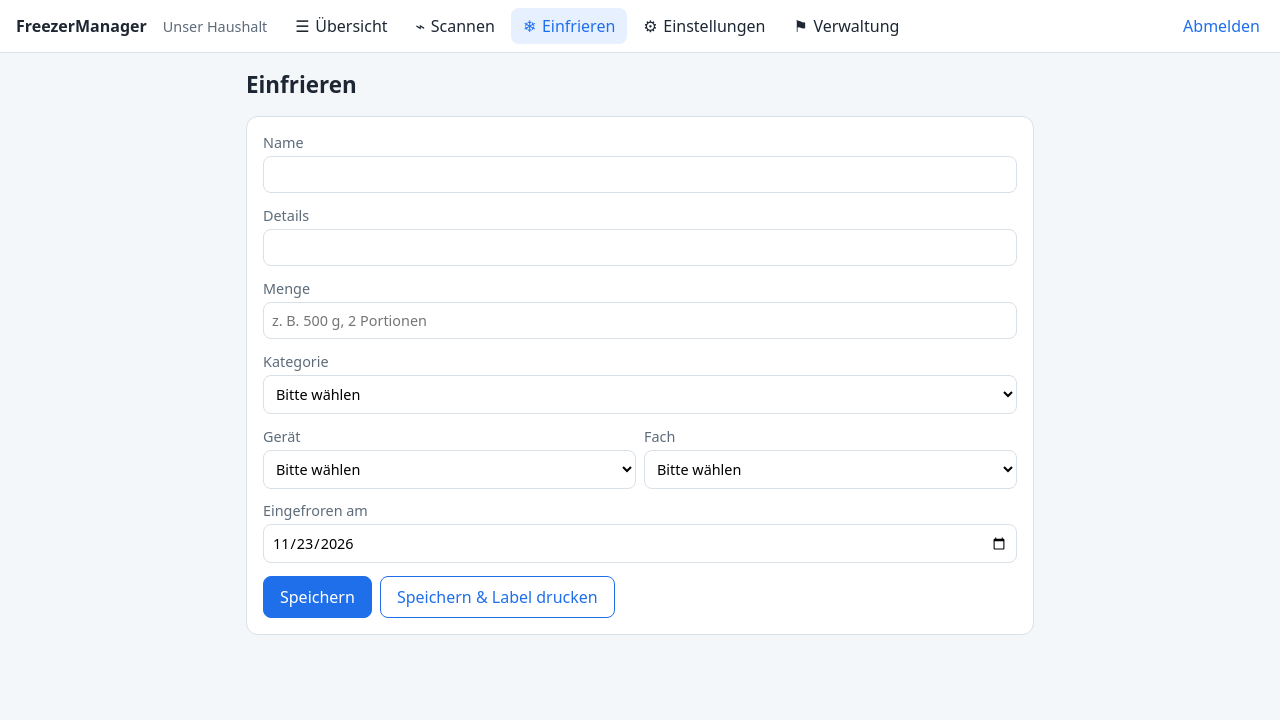
Test: requires a name
The image size is (1280, 720).
Check: the heading "Einfrieren" is shown, box [246,69,357,100]
Click the button "Speichern". click: (317, 597)
box: [263,576,372,618]
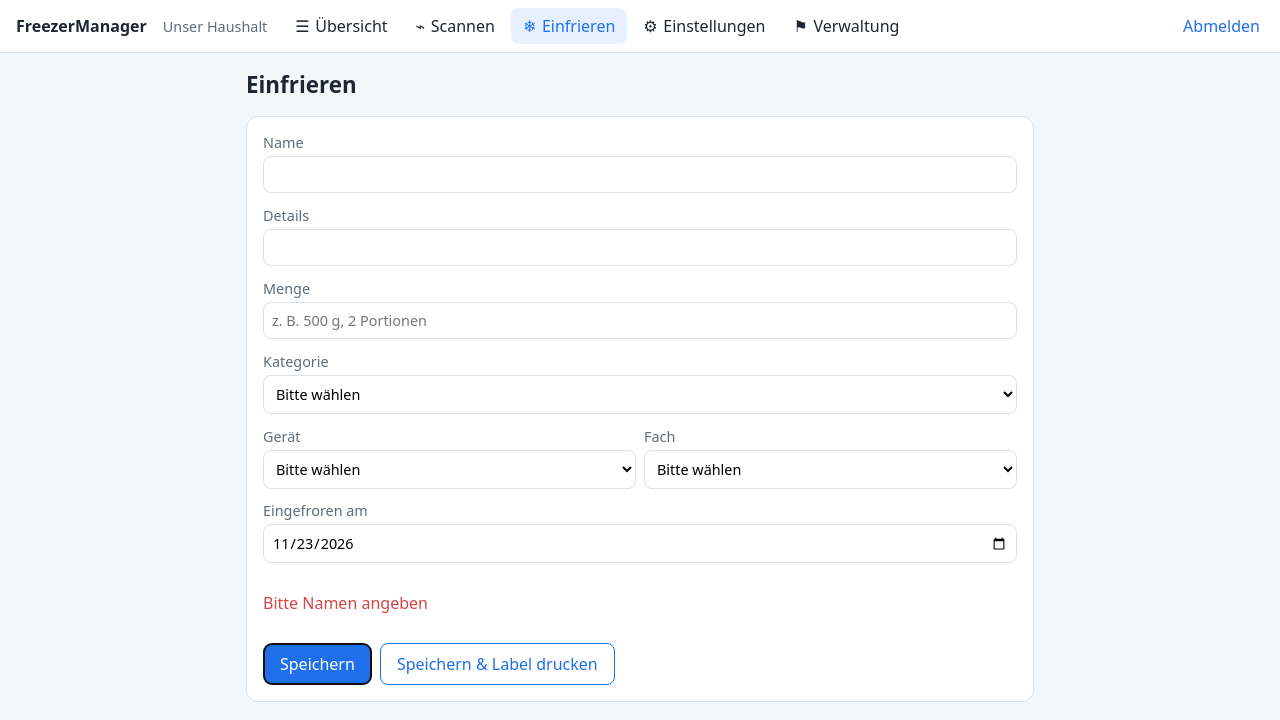
Check: the text "Bitte Namen angeben" is shown, box [263,592,428,614]
